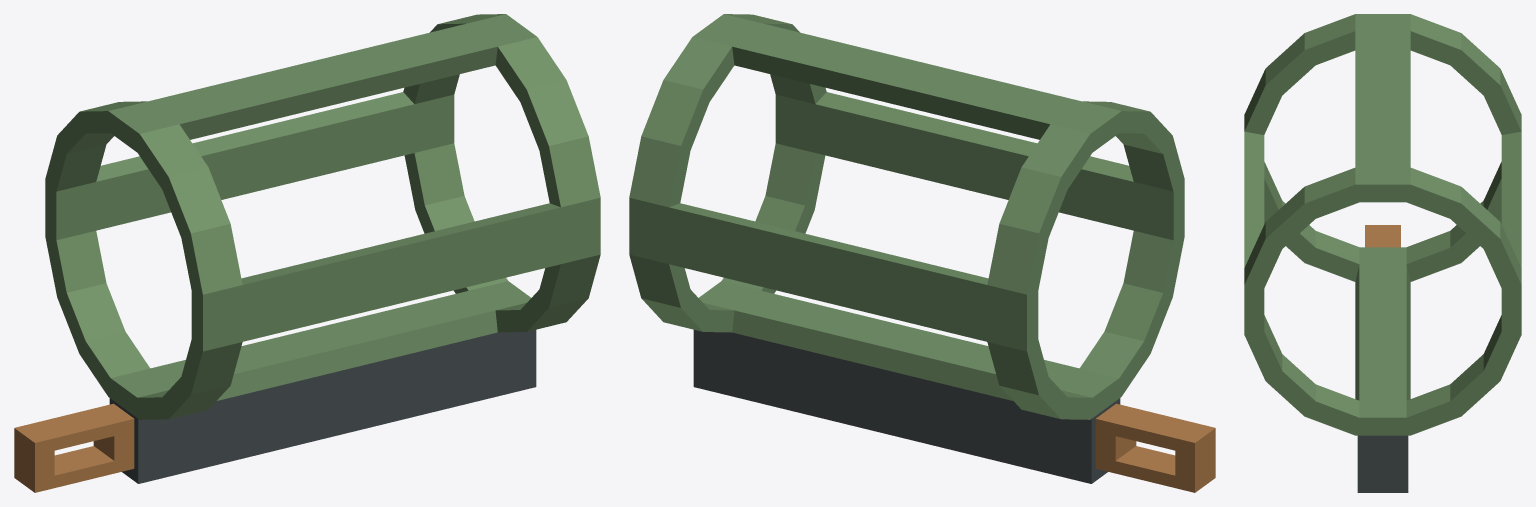
3 views of the same model, side by side, from view 1: azimuth 30°, elevation 25°; view 2: azimuth 150°, elevation 25°; view 3: azimuth 270°, elevation 25° (orthographic). The views are drawn at different scales.
Visible parts, largest first — view 1: ContinuousFourWindowCage, CompleteGroundWeight, CompleteTetherEye; view 2: ContinuousFourWindowCage, CompleteGroundWeight, CompleteTetherEye; view 3: ContinuousFourWindowCage, CompleteGroundWeight, CompleteTetherEye.
Boxes of the visible parts, x1,y1,x2,y2 form: ContinuousFourWindowCage: [45, 14, 600, 419]; CompleteGroundWeight: [109, 330, 536, 483]; CompleteTetherEye: [14, 403, 134, 492]; ContinuousFourWindowCage: [629, 14, 1184, 419]; CompleteGroundWeight: [693, 330, 1120, 483]; CompleteTetherEye: [1095, 403, 1215, 492]; ContinuousFourWindowCage: [1244, 14, 1521, 435]; CompleteGroundWeight: [1357, 435, 1408, 492]; CompleteTetherEye: [1365, 225, 1400, 247].
Size of the model in its own units: 0.5 by 0.3373 by 0.2746.
